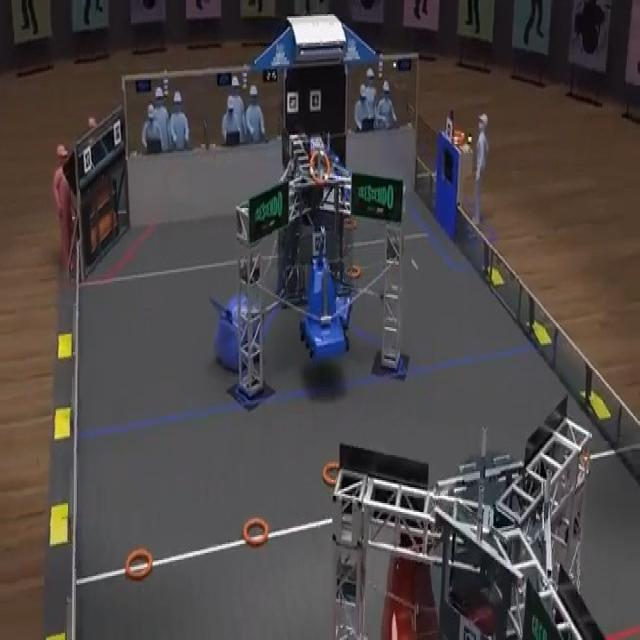notes: (122, 545, 155, 582), (240, 513, 268, 550), (324, 464, 339, 485), (347, 265, 360, 278)
